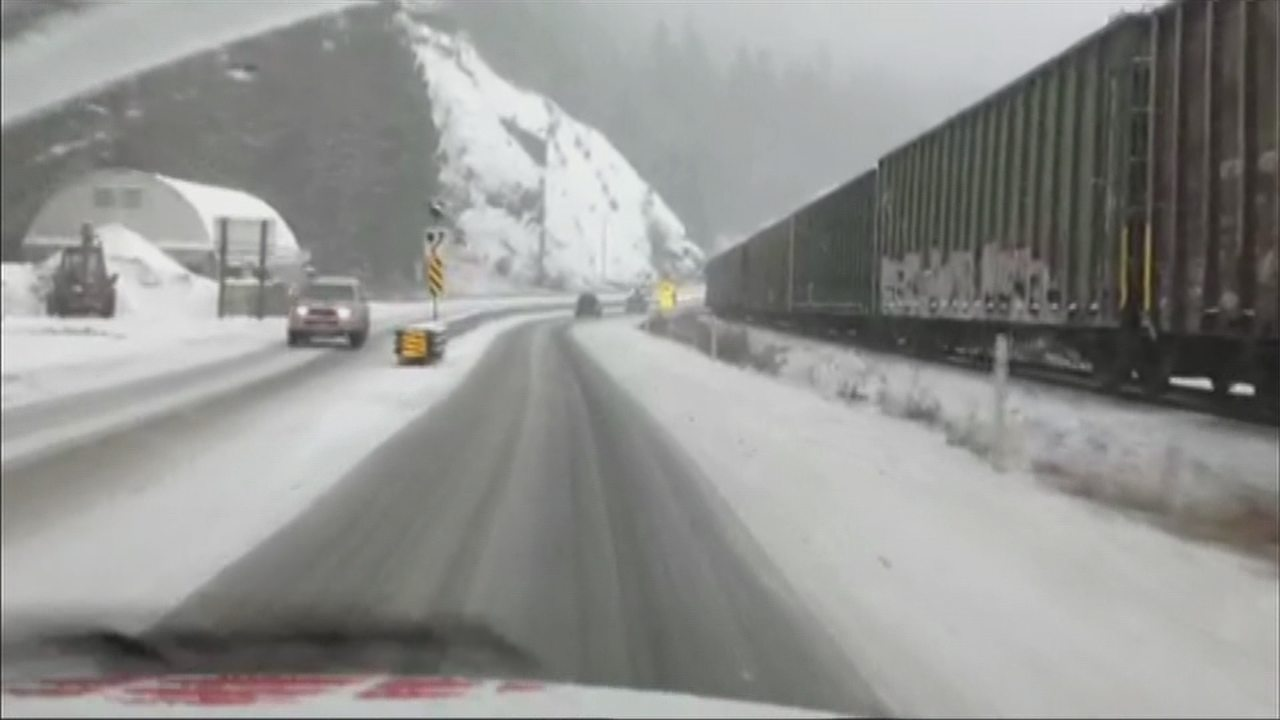car: (285, 275, 369, 349)
